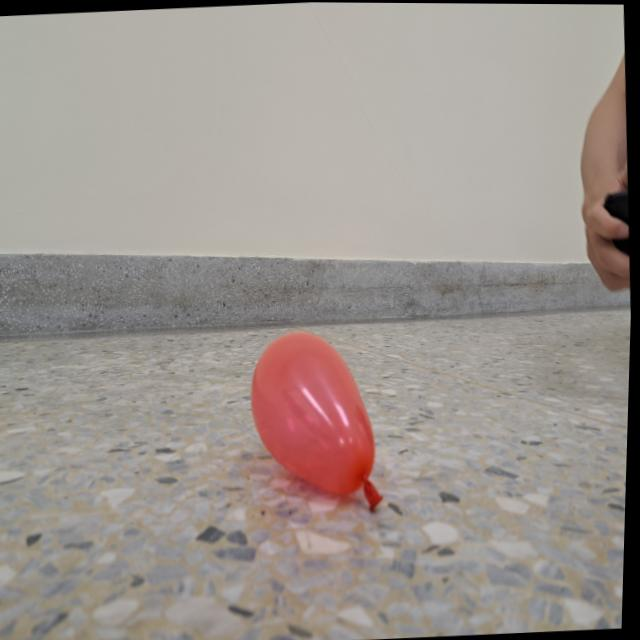red: (245, 326, 392, 519)
